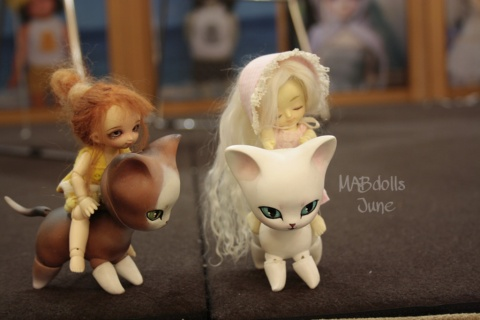Cat: (2, 135, 183, 295), (221, 138, 337, 295)
